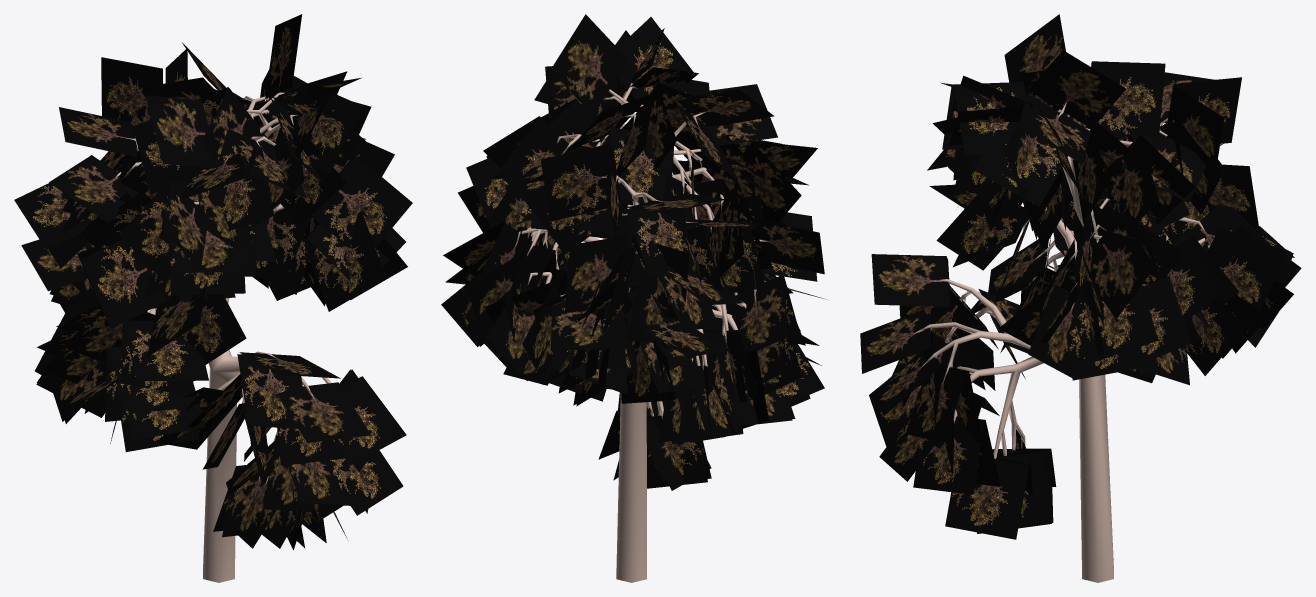
File: tree.glb
3 views of the same model, side by side, from view 1: azimuth 30°, elevation 25°; view 2: azimuth 150°, elevation 25°; view 3: azimuth 270°, elevation 25° (orthographic). The views are drawn at different scales.
Bounding box in the file's own units: 4.12 × 6.35 × 4.56.
Materials: 2 (1 with a texture image).
